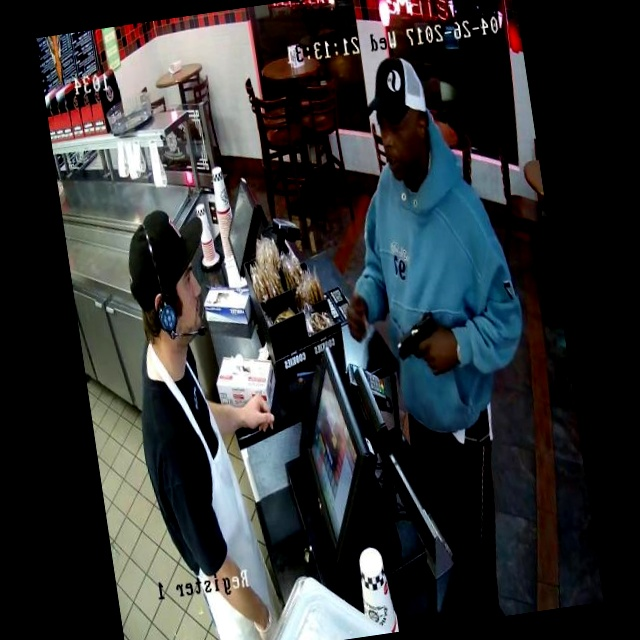gun: (381, 295, 459, 376)
